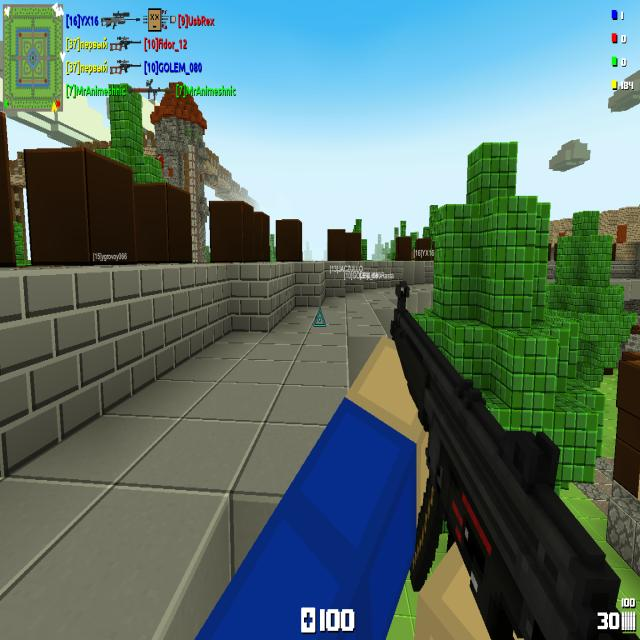enemy: (158, 153, 164, 166)
